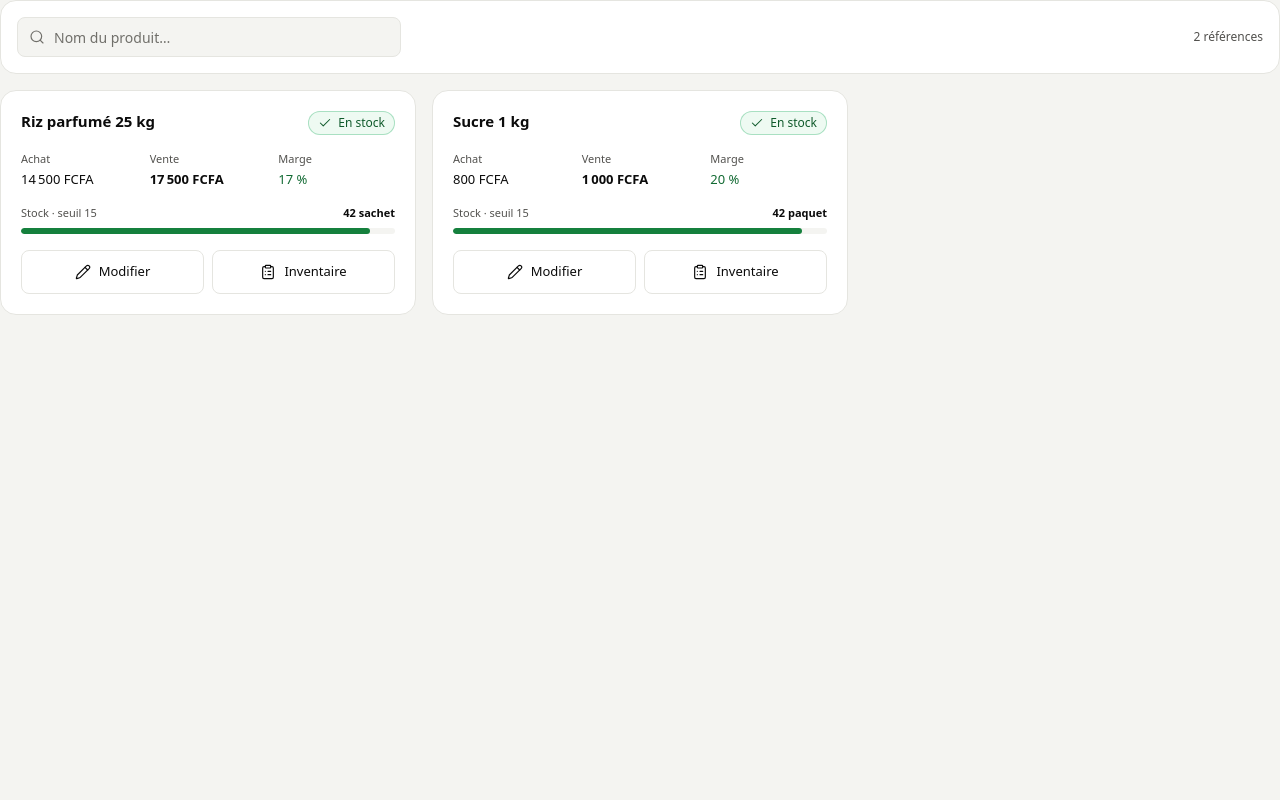
actions sur une carte produit › ouvre la modification sur le produit cliqué
Check: the heading "Sucre 1 kg" is shown, box [453,111,529,132]
Click the button with aria-label "modifier sucre 1 kg" at (544, 272), box [453,250,636,294]
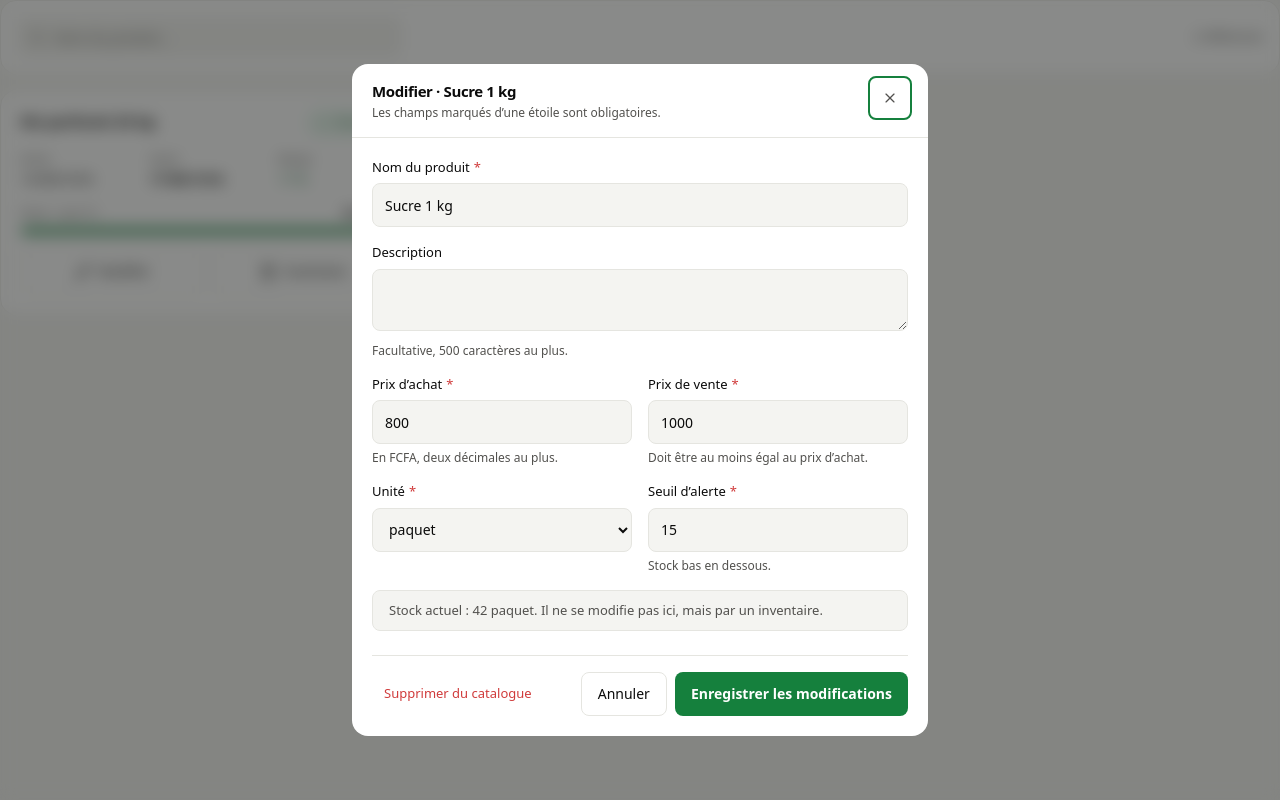
Check: the dialog is shown, box [352,64,928,736]
Check: the field labelled "Nom du produit*" holds "Sucre 1 kg", box [372,183,908,227]
Check: the number field labelled "Prix de vente*" holds "1000", box [648,400,908,444]
